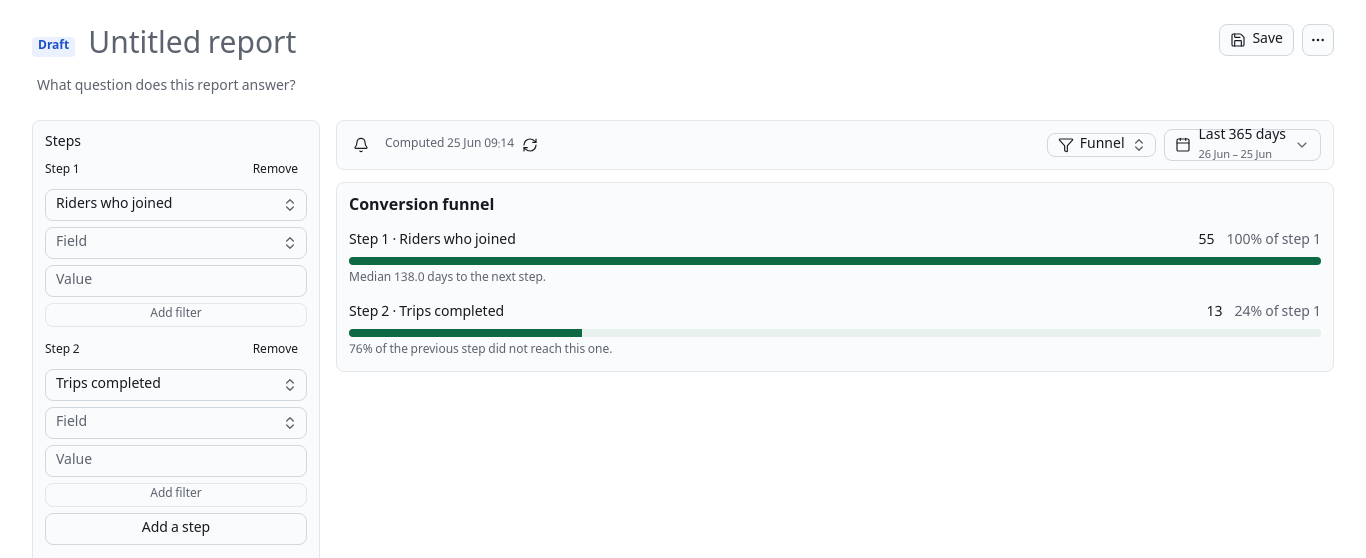
Scenario: a round trip through another mode costs no request › keeps a funnel’s rungs across a trip through Trend
The width and height of the screenshot is (1366, 558).
Check: the text "Conversion funnel" is shown, box [349, 193, 494, 220]
Click the dropdown named "Chart type": (1101, 145) [1047, 133, 1156, 157]
(page scrolled)
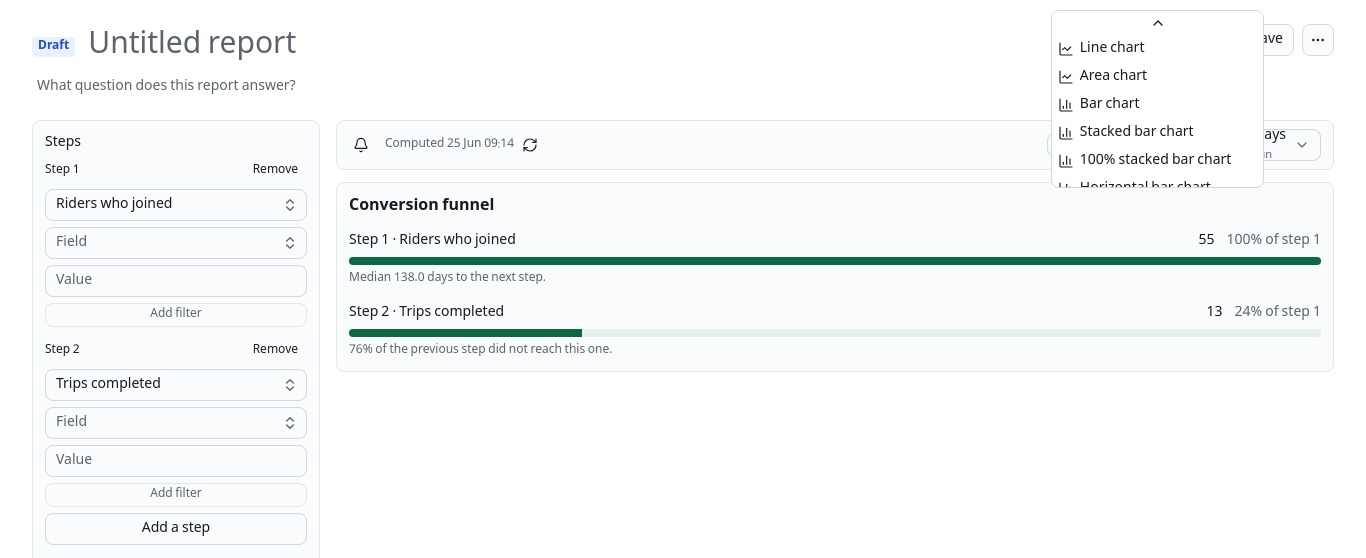
Click the option "Line chart": (1101, 49) [1058, 37, 1144, 61]
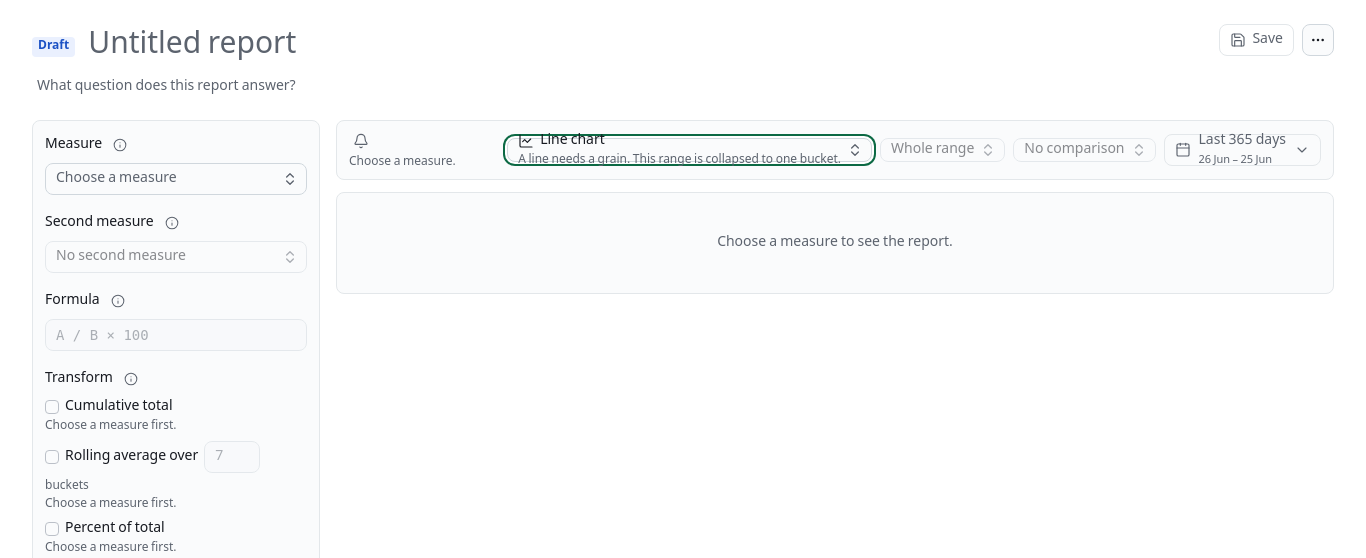
Click the dropdown named "Chart type": (690, 150) [507, 138, 872, 162]
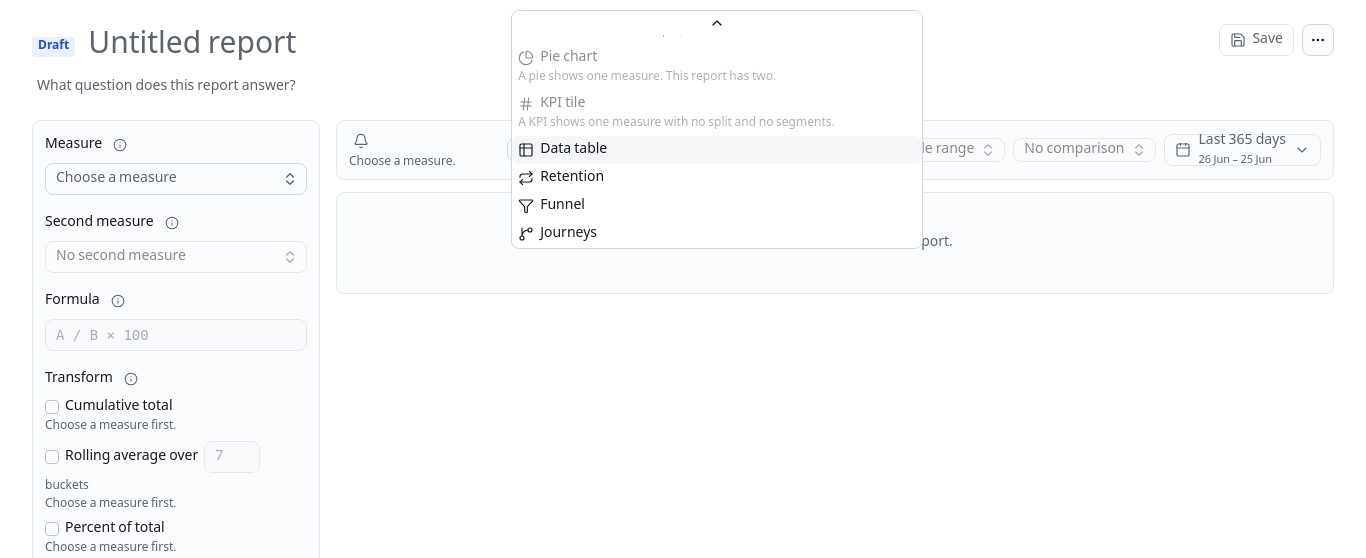
Click the option "Funnel": (552, 206) [518, 194, 585, 218]
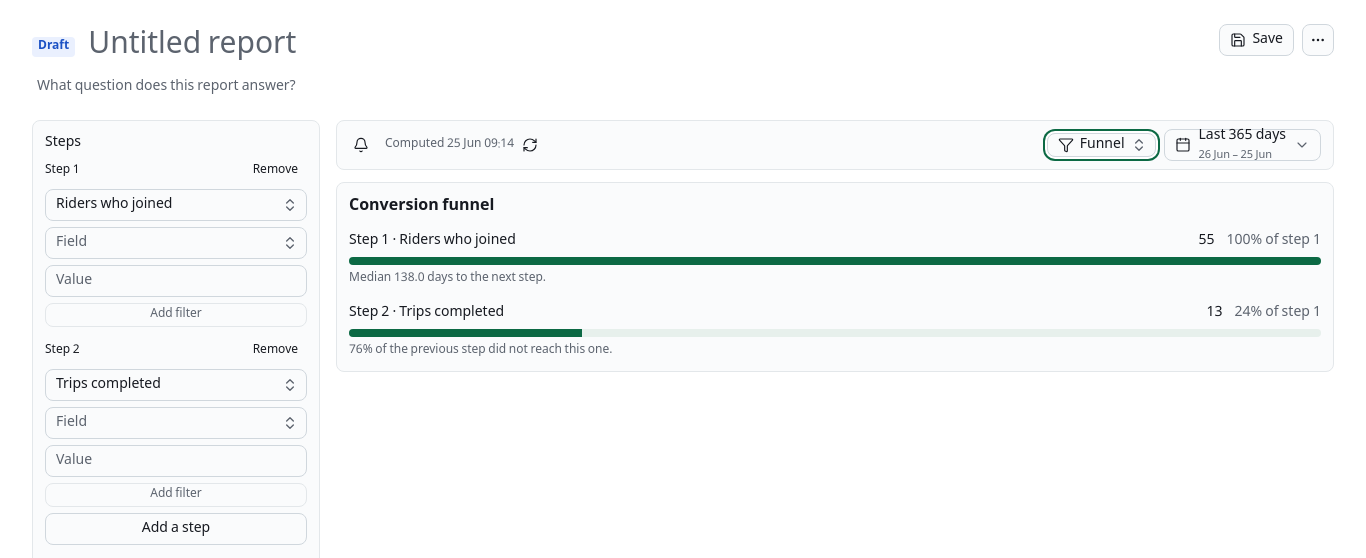
Check: the text "Conversion funnel" is shown, box [349, 193, 494, 220]
